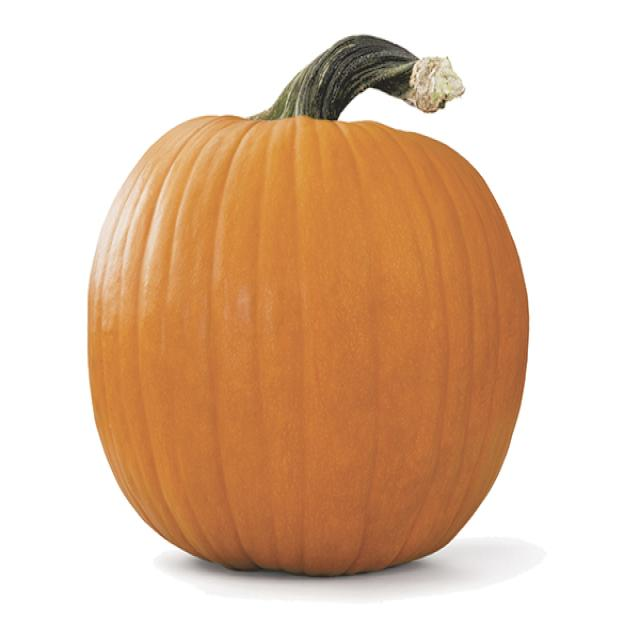pumpkin: (89, 34, 529, 574)
